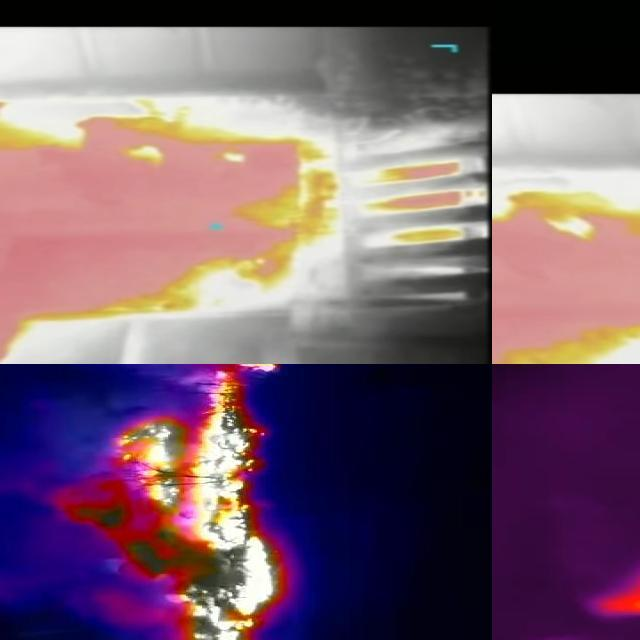fire: (1, 79, 339, 365), (69, 365, 283, 640), (493, 204, 640, 365), (586, 544, 640, 638)
